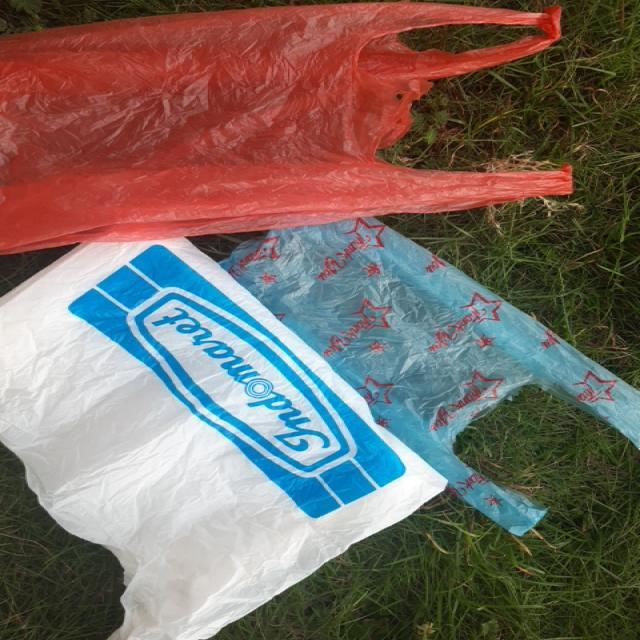Single-layer Plastic: (5, 240, 457, 636), (0, 2, 572, 253), (225, 213, 638, 543)
